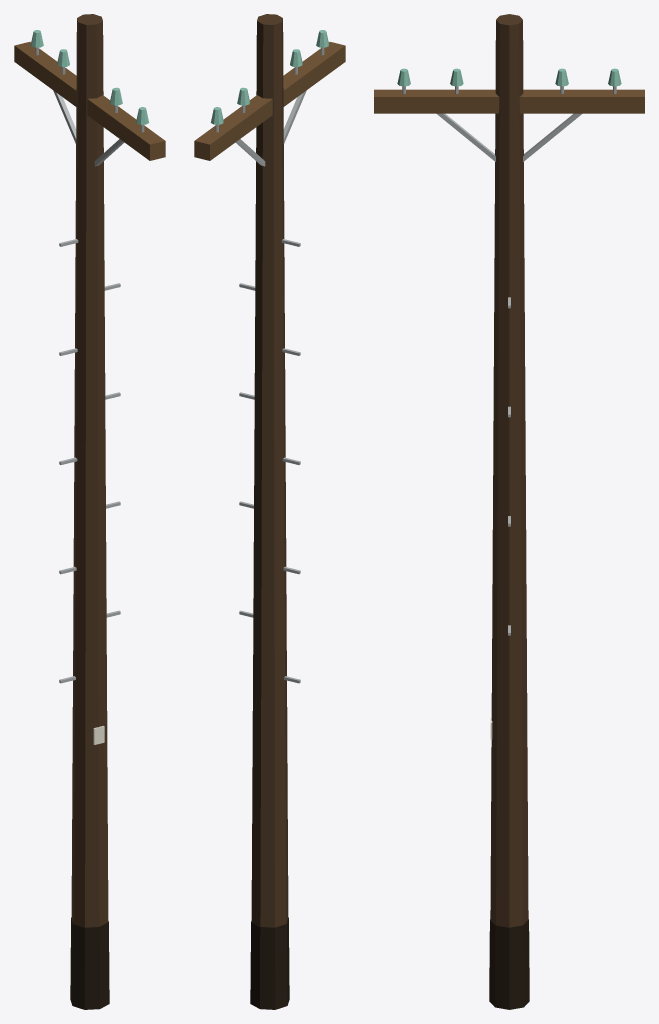
File: world.line-pole.glb
3 views of the same model, side by side, from view 1: azimuth 30°, elevation 25°; view 2: azimuth 150°, elevation 25°; view 3: azimuth 270°, elevation 25° (orthographic).
Visible parts, largest first — view 1: world-line-pole; view 2: world-line-pole; view 3: world-line-pole.
Boxes of the visible parts, <box> form: world-line-pole: <box>14,14,165,1009</box>; world-line-pole: <box>194,14,345,1009</box>; world-line-pole: <box>374,14,644,1009</box>.
Size of the model in its own units: 0.46 by 7.2 by 1.8.
